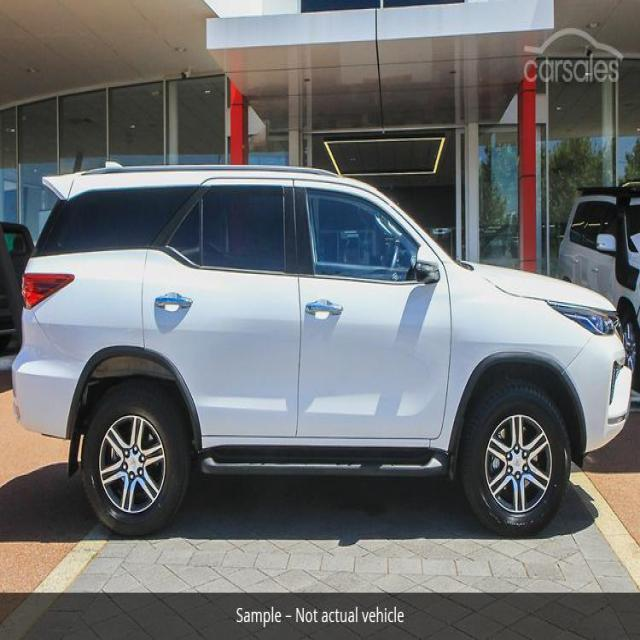light_vehicle: (11, 162, 635, 539)
